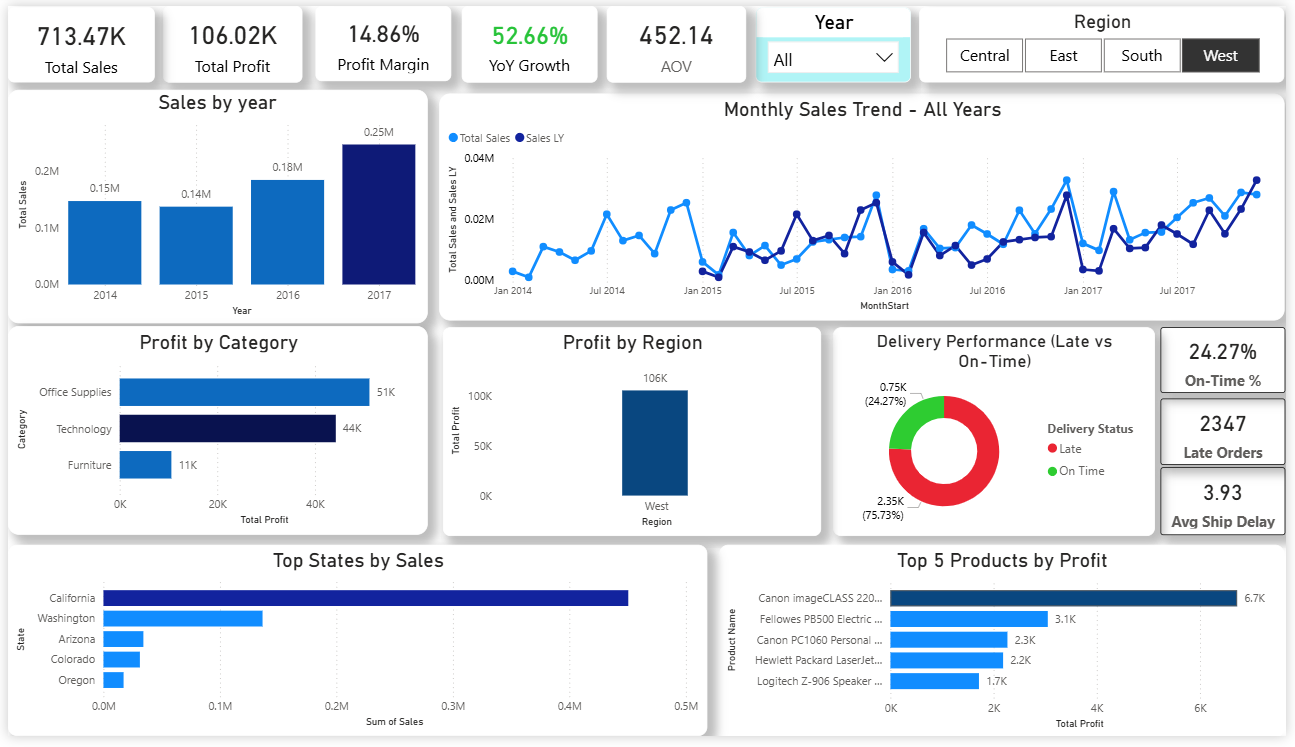

The dashboard page shown, as its layout file describes it:
{"tool":"powerbi","page":{"name":"Page 1","canvas":[1400,800],"ordinal":0},"visuals":[{"type":"card","fields":{"Values":["ecommerce sales.Total Profit"]},"box":[170.4,0,152.8,83.8],"z":0},{"type":"card","fields":{"Values":["ecommerce sales.Profit Margin %"]},"box":[336.7,0,148.7,82.5],"z":1000},{"type":"card","fields":{"Values":["ecommerce sales.Total Sales"]},"box":[0,1.4,160.9,82.5],"z":2000},{"type":"card","fields":{"Values":["Date Table.YoY Growth %"]},"box":[497.6,0,148.7,83.8],"z":3000},{"type":"clusteredColumnChart","title":"Sales by year","fields":{"Category":["Date Table.Year"],"Y":["ecommerce sales.Total Sales"]},"box":[0,91.6,460.4,255.6],"z":4000},{"type":"lineChart","fields":{"Y":["ecommerce sales.Total Sales","Date Table.Sales LY"],"Category":["Date Table.MonthStart"]},"box":[473.2,96,926.2,248.8],"z":5000},{"type":"slicer","title":"Year","fields":{"Values":["Date Table.Year"]},"box":[819.4,1.4,170.4,82.5],"z":6000},{"type":"barChart","title":"Profit by Category","fields":{"Category":["ecommerce sales.Category"],"Y":["ecommerce sales.Total Profit"]},"box":[0,351,460.4,228.9],"z":7000},{"type":"card","fields":{"Values":["ecommerce sales.Avg Ship Delay"]},"box":[1262.9,505.7,136.6,74.4],"z":8000},{"type":"card","fields":{"Values":["ecommerce sales.Late Orders"]},"box":[1262.9,430,136.6,73],"z":9000},{"type":"card","fields":{"Values":["ecommerce sales.On-Time %"]},"box":[1262.9,351.5,136.6,71.7],"z":10000},{"type":"donutChart","title":"Delivery Performance (Late vs On-Time)","fields":{"Category":["ecommerce sales.Delivery Status"],"Y":["CountNonNull(ecommerce sales.Order ID)"]},"box":[904.6,351.5,352.9,228.5],"z":11000},{"type":"lineChart","title":"Late Orders Trend","fields":{"Y":["ecommerce sales.Late %"],"Category":["ecommerce sales.YearMonthDate"]},"box":[0,590.1,878.4,210.1],"z":12000},{"type":"slicer","title":"Region","fields":{"Values":["ecommerce sales.Region"]},"box":[1141.9,803.4,826.1,237.5],"z":13000},{"type":"clusteredColumnChart","title":"Profit by Region","fields":{"Y":["ecommerce sales.Total Profit"],"Category":["ecommerce sales.Region"]},"box":[476.5,351.9,414.2,228.5],"z":14000},{"type":"card","fields":{"Values":["ecommerce sales.AOV"]},"box":[655.8,0,152.8,83.8],"z":15000},{"type":"clusteredBarChart","title":"Top 5 Products by Profit","fields":{"Category":["ecommerce sales.Product Name"],"Y":["ecommerce sales.Total Profit"]},"box":[891,589.5,508.4,210.9],"z":16000},{"type":"slicer","title":"Region","fields":{"Values":["ecommerce sales.Region"]},"box":[999.2,1.4,400.2,82.5],"z":17000}]}

Visuals, with their boxes in screenshot pixels (x1, y1, x2, y2), scaled from the page's 1400x800 canvas onto the 1295x747 screenshot:
card - ecommerce sales.Total Profit: (158, 0, 299, 78)
card - ecommerce sales.Profit Margin %: (311, 0, 449, 77)
card - ecommerce sales.Total Sales: (0, 1, 149, 78)
card - Date Table.YoY Growth %: (460, 0, 598, 78)
"Sales by year" clusteredColumnChart: (0, 86, 426, 324)
lineChart - ecommerce sales.Total Sales x Date Table.Sales LY: (438, 90, 1294, 322)
"Year" slicer: (758, 1, 916, 78)
"Profit by Category" barChart: (0, 328, 426, 541)
card - ecommerce sales.Avg Ship Delay: (1168, 472, 1294, 542)
card - ecommerce sales.Late Orders: (1168, 402, 1294, 470)
card - ecommerce sales.On-Time %: (1168, 328, 1294, 395)
"Delivery Performance (Late vs On-Time)" donutChart: (837, 328, 1163, 542)
"Late Orders Trend" lineChart: (0, 551, 813, 746)
"Profit by Region" clusteredColumnChart: (441, 329, 824, 542)
card - ecommerce sales.AOV: (607, 0, 748, 78)
"Top 5 Products by Profit" clusteredBarChart: (824, 550, 1294, 746)
"Region" slicer: (924, 1, 1294, 78)
